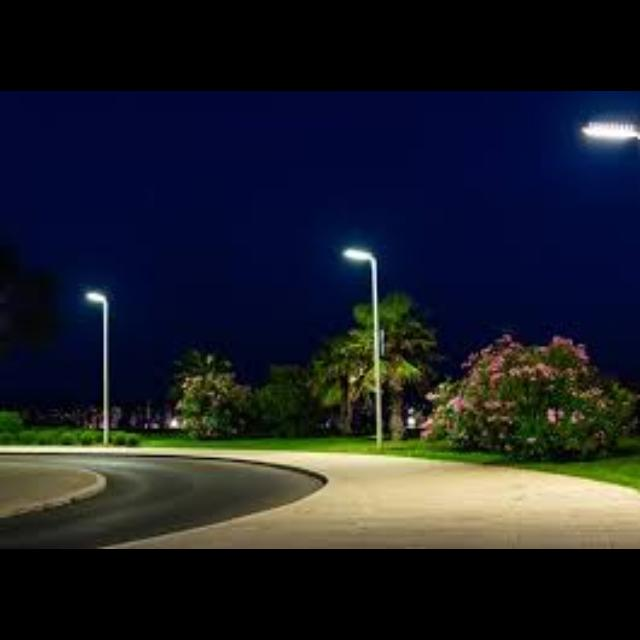Street-Lamp: (323, 226, 397, 448), (74, 270, 126, 452)
